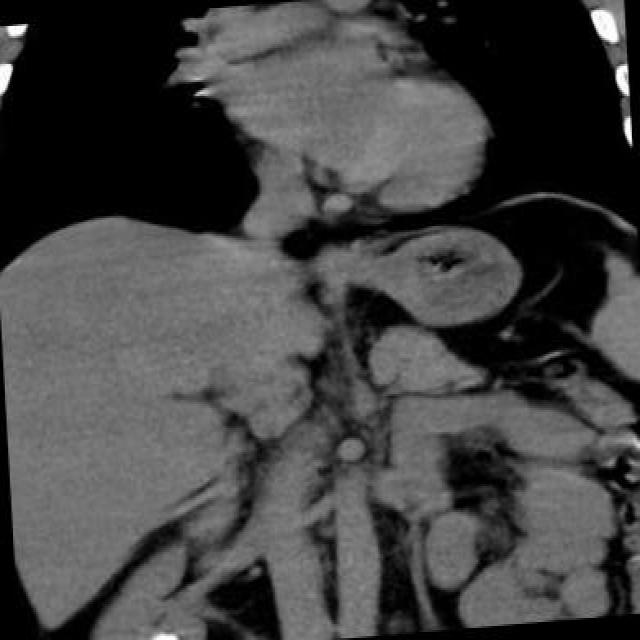Tas_Var: (142, 624, 178, 640)
